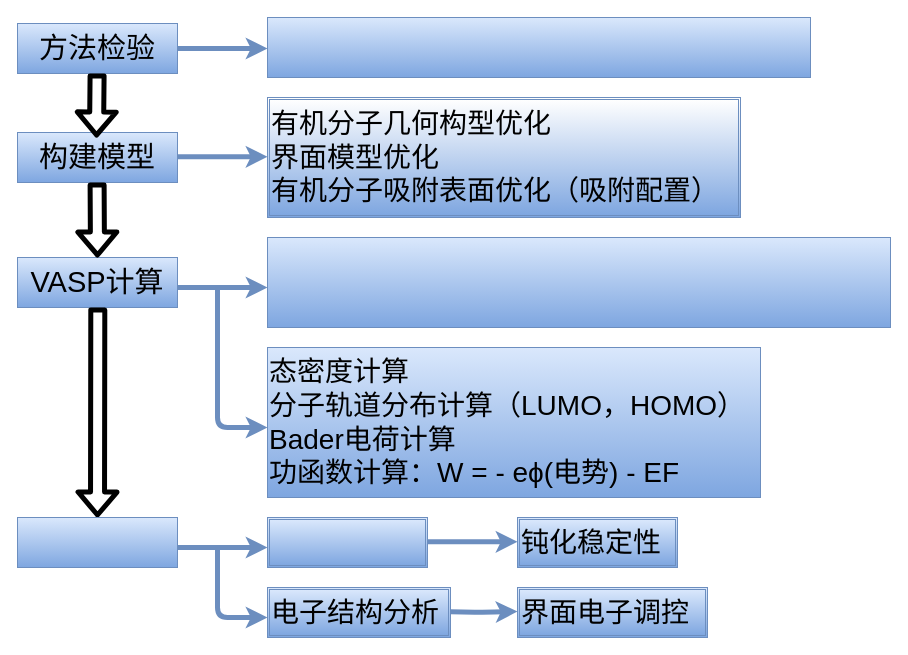
The diagram is 908 pixels wide and 655 high, and some of its shapes have lost their labels. The box of each missing label's shape, as (x1, y1, x2, y2) in pixels:
吸附能计算： E a = E organic+ slab – E organic – E slab 空位形成能计算: (266, 236, 890, 328)
结果分析: (16, 516, 178, 568)
能量值 分析: (266, 516, 428, 568)
钙钛矿结构优化，晶格常数、带隙的计算: (266, 16, 810, 78)
